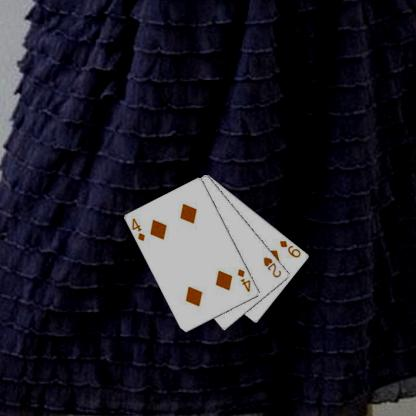2H: (261, 255, 283, 279)
4D: (235, 266, 252, 293), (130, 216, 146, 243)
9D: (277, 238, 302, 259)
